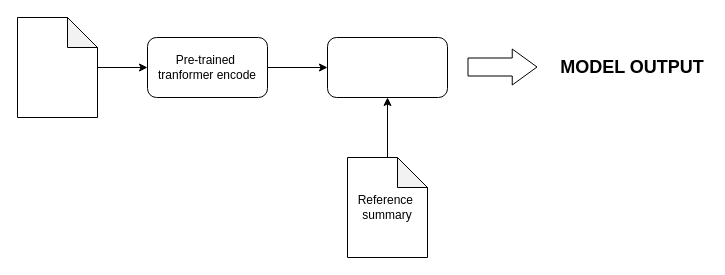
Image size: 725x275. Some labels were removed from this diagram. The shapes that lost their labels are listed below. From the top down, each one's box as (x1, y1, x2, y2) in pixels, then its label:
(16, 16, 98, 118): Input
(326, 36, 448, 98): Pre-trained tranformer decode
